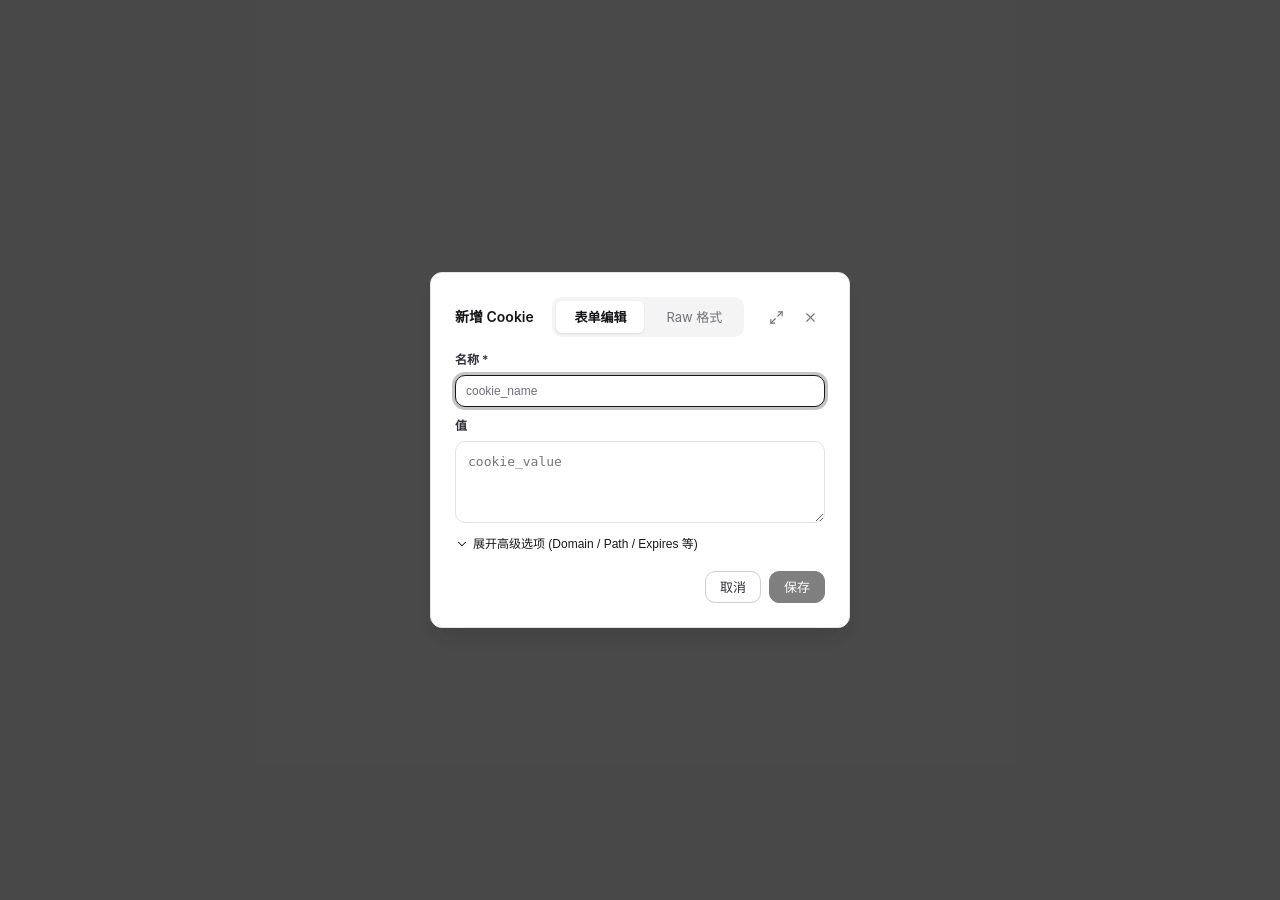
Test: CookieEditModal 表单字段与校验 › sameSite=no_restriction 时自动勾选 Secure；取消 Secure 会回退到 lax
Click the button "展开高级选项 (Domain / Path / Expires 等)": (576, 544) [455,535,698,553]
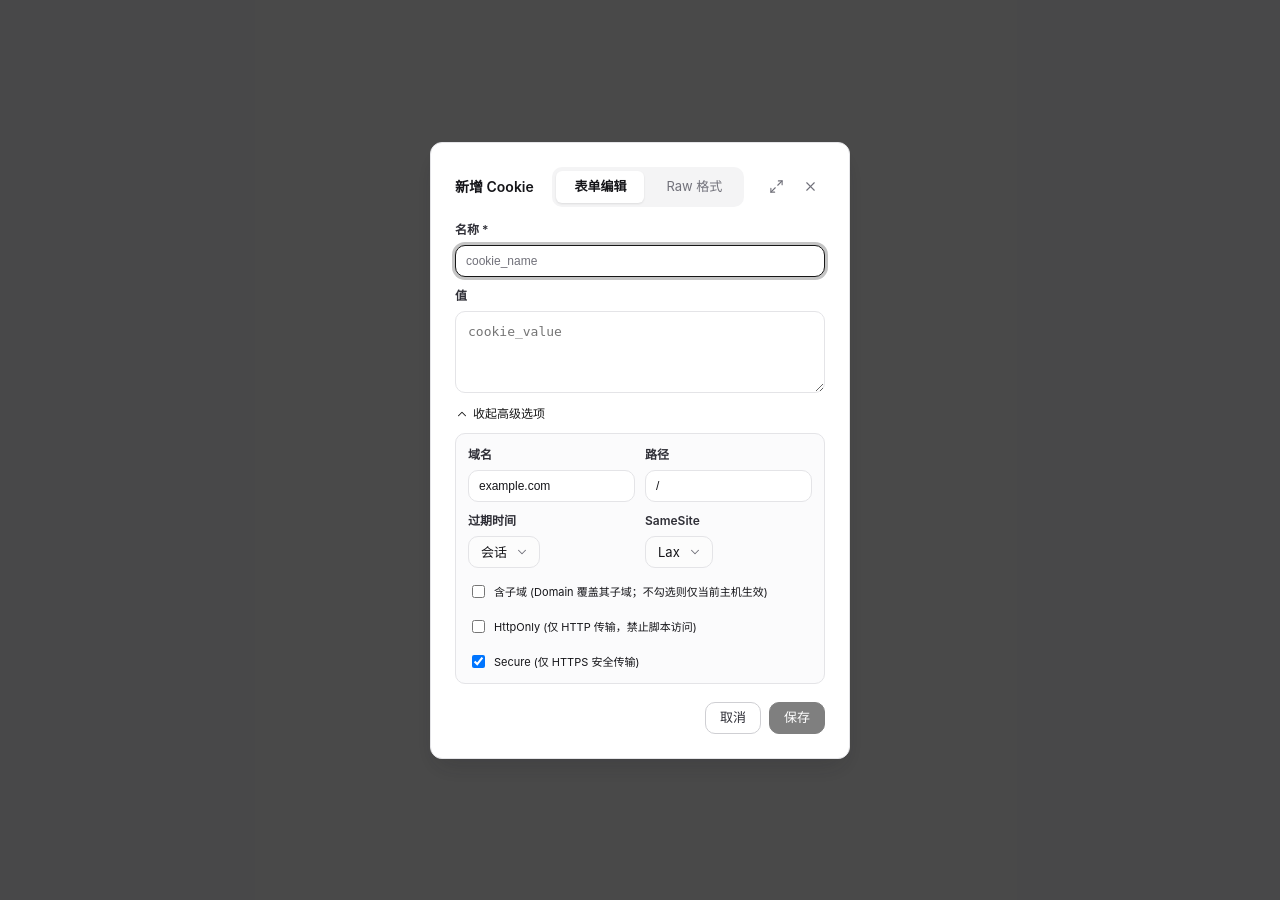
Expected: the checkbox labelled "Secure (仅 HTTPS 安全传输)" is checked, [472,654,485,668]
Click the dropdown labelled "Lax": (679, 552) [645,536,713,568]
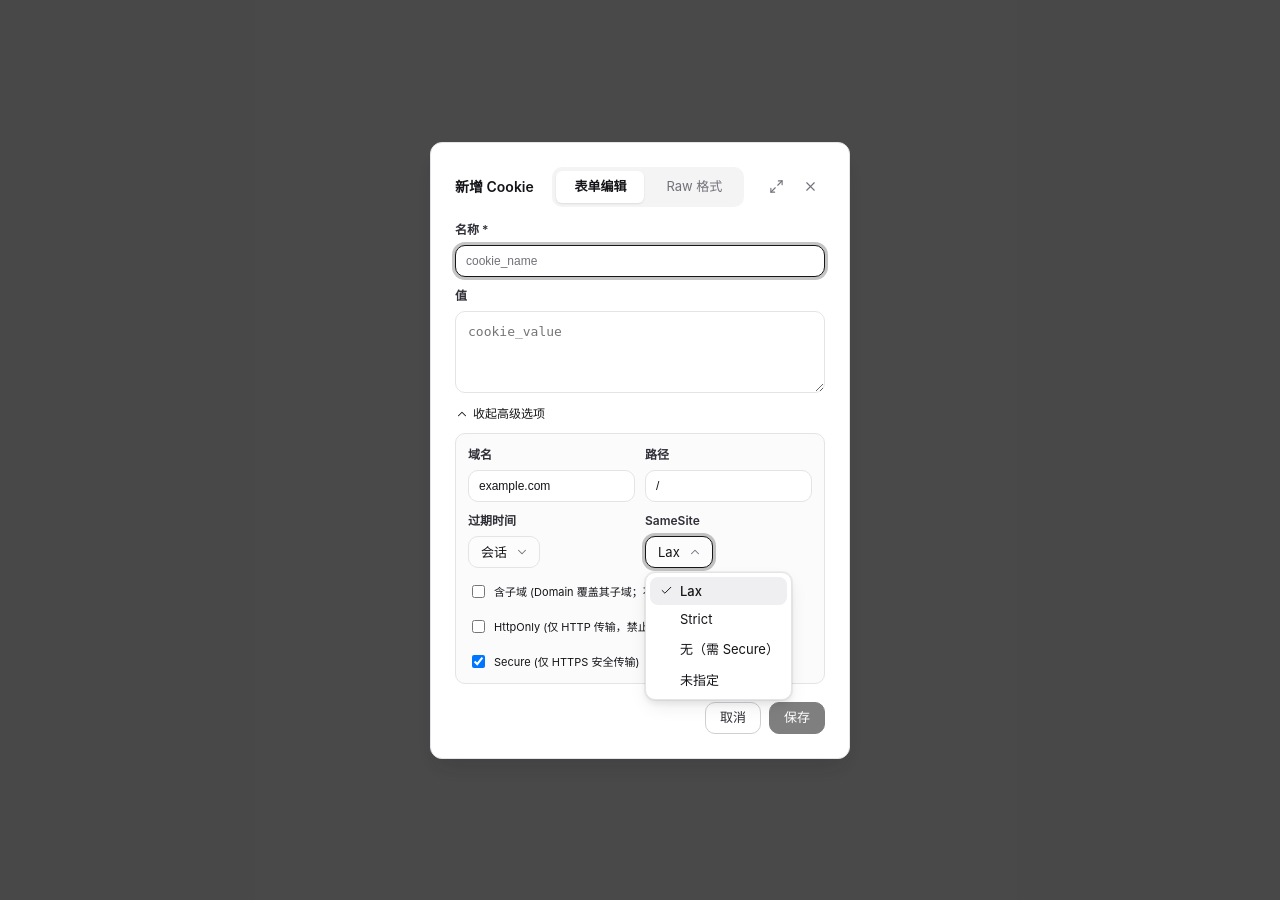
Press the mouse on the option "无（需 Secure）": (730, 648) [680,640,779,656]
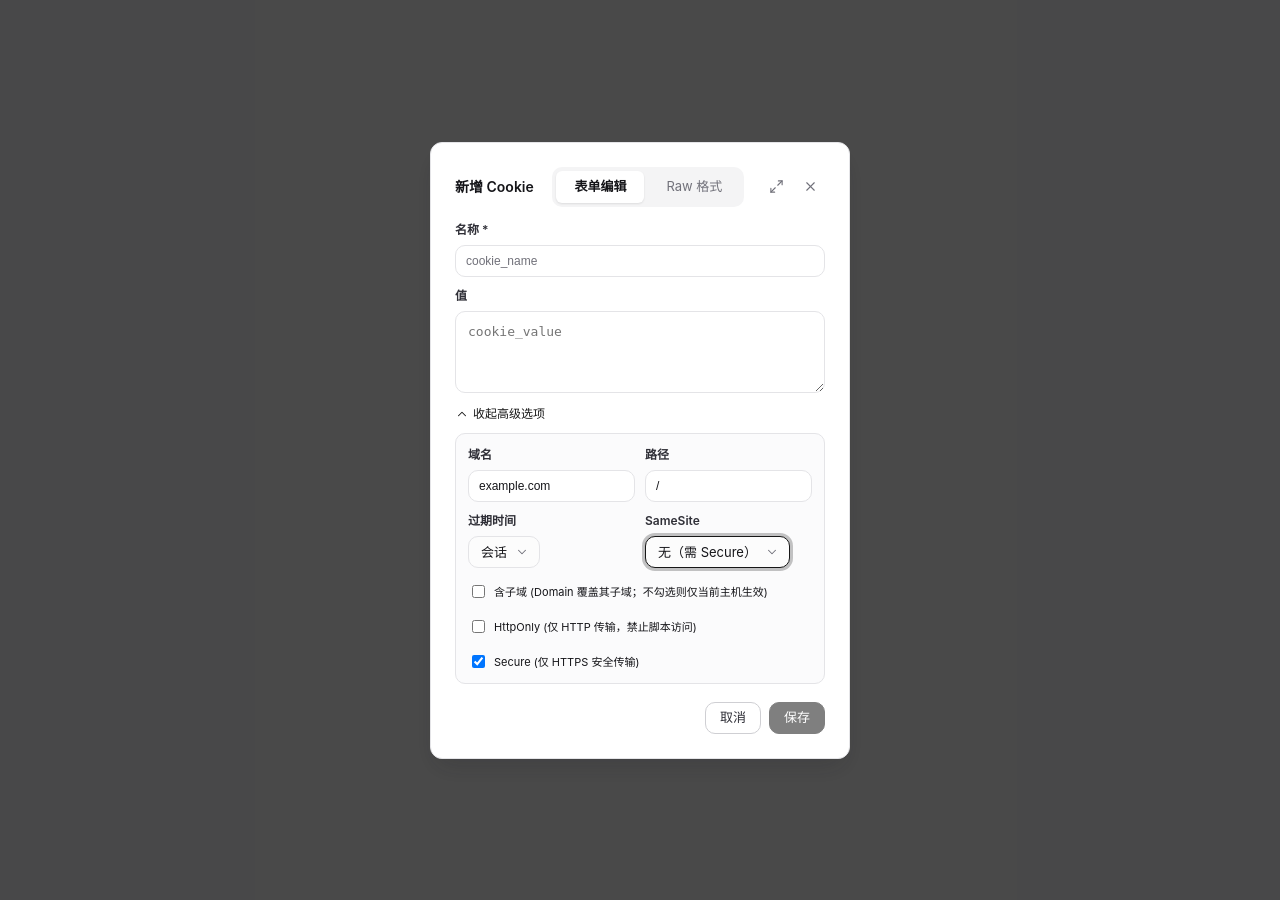
Expected: the checkbox labelled "Secure (仅 HTTPS 安全传输)" is checked
Click the checkbox labelled "Secure (仅 HTTPS 安全传输)": (478, 661) [472,654,485,668]
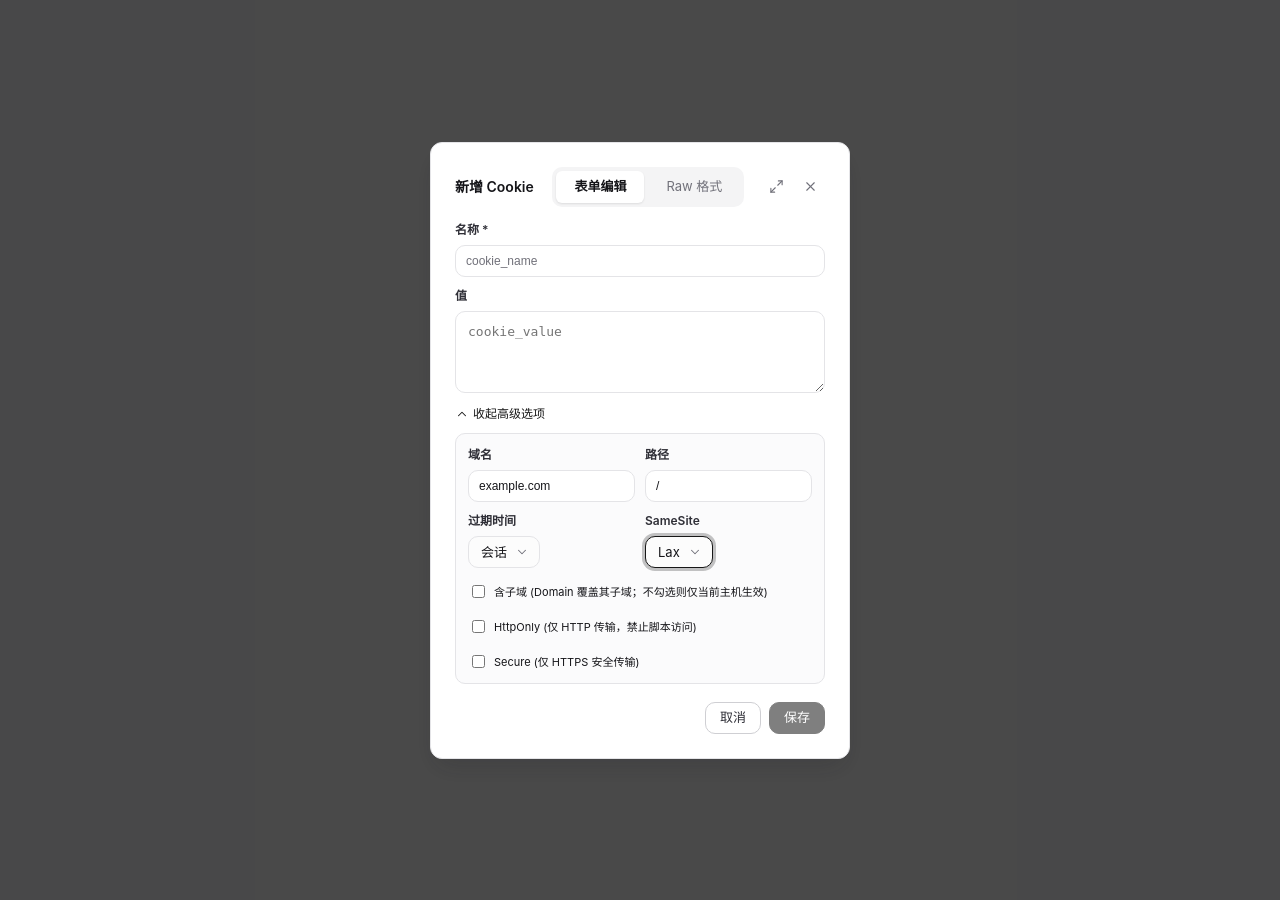
Expected: the checkbox labelled "Secure (仅 HTTPS 安全传输)" is not checked, [472,654,485,668]
Expected: the dropdown labelled "Lax" is shown, [645,536,713,568]
